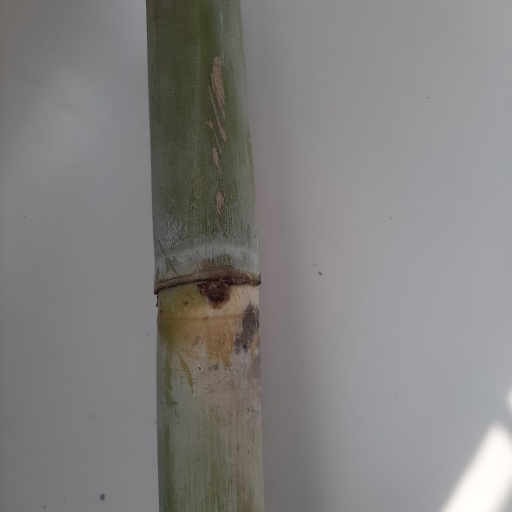Bud: (204, 280, 229, 306)
